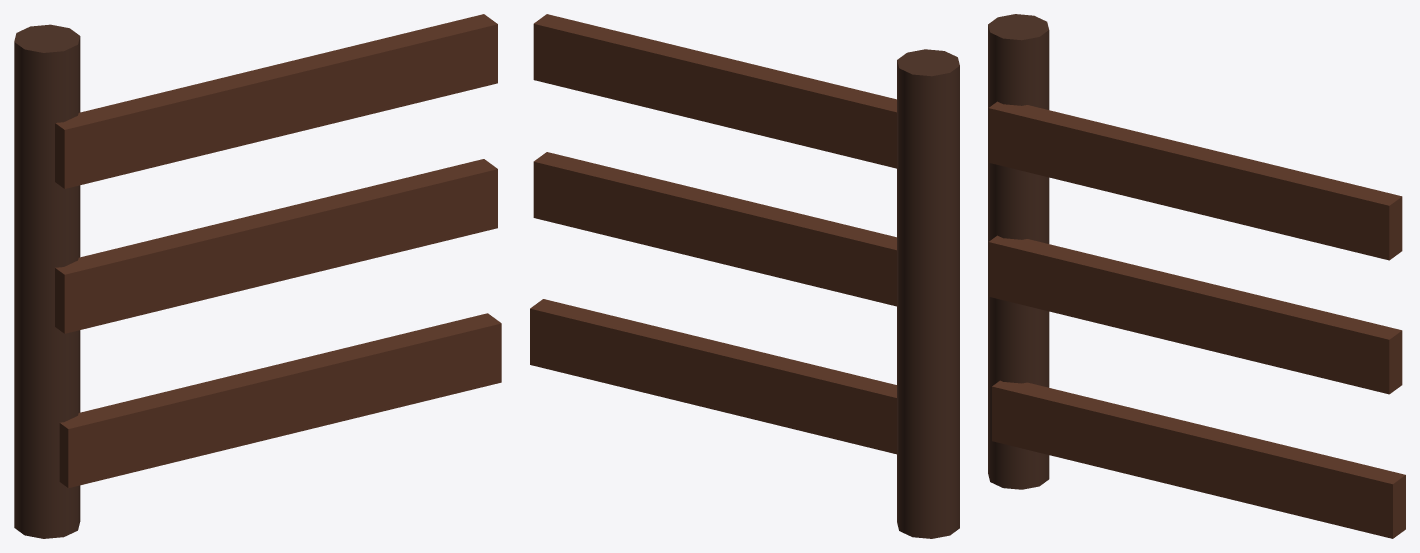
Rendered from cerquinha1.fbx.
3 renders of one model, left to right at view 1: azimuth 30°, elevation 25°; view 2: azimuth 150°, elevation 25°; view 3: azimuth 330°, elevation 25°, orthographic. The views are drawn at different scales.
Parts seen in each view (by area): view 1: Cube; view 2: Cube; view 3: Cube.
Part boxes in pixels (x1=…): Cube: x1=14, y1=14, x2=501, y2=538; Cube: x1=530, y1=14, x2=959, y2=538; Cube: x1=988, y1=14, x2=1405, y2=538.
Bounding box in the file's own units: 120 × 122 × 18.99.
